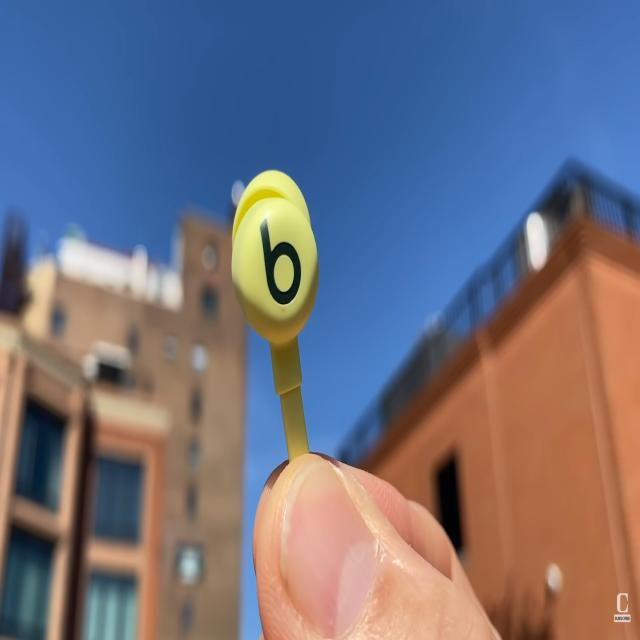Earphone: (229, 165, 320, 455)
